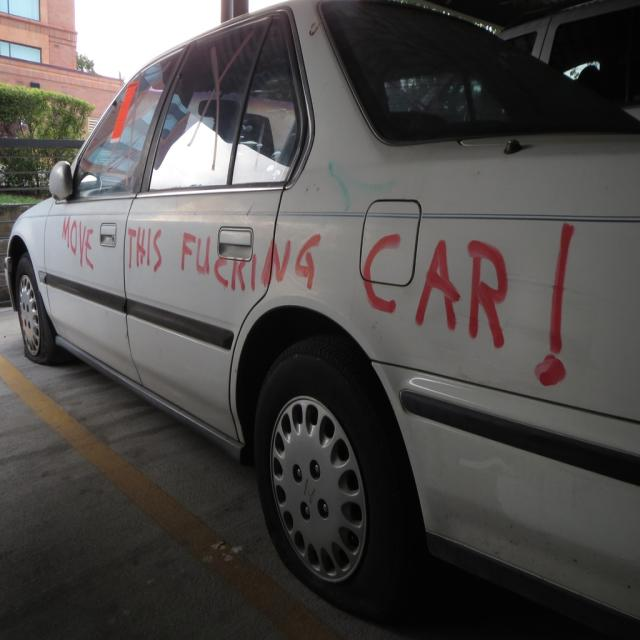car: (5, 5, 629, 599)
